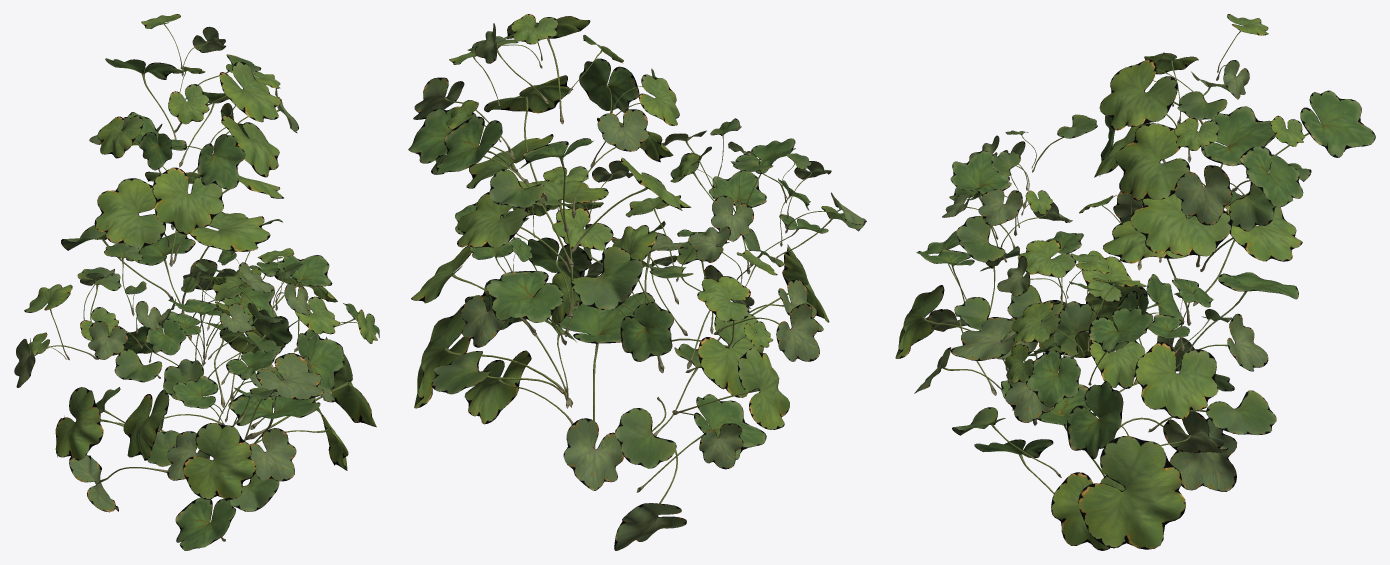
Rendered from ficus.glb.
The picture shows the model from 3 angles, left to right: view 1: azimuth 30°, elevation 25°; view 2: azimuth 150°, elevation 25°; view 3: azimuth 270°, elevation 25°; orthographic projection. The views are drawn at different scales.
Parts seen in each view (by area): view 1: potted_plant_01_leaves; view 2: potted_plant_01_leaves; view 3: potted_plant_01_leaves.
Part boxes in pixels (x1,y1,x2,y2): potted_plant_01_leaves: [14, 14, 379, 550]; potted_plant_01_leaves: [408, 14, 866, 550]; potted_plant_01_leaves: [895, 14, 1375, 550].
Bounding box in the file's own units: 0.5874 × 0.7532 × 0.6336.
1 material, 1 textured.
